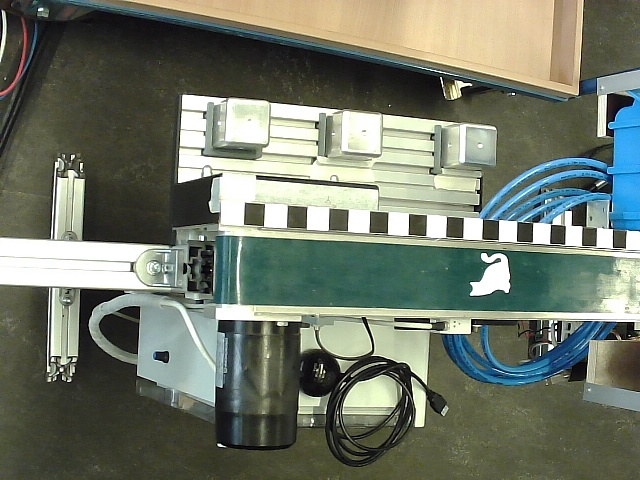cat: (468, 252, 512, 297)
